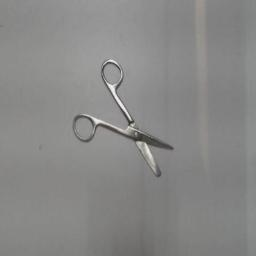Dressing Scissors: (68, 52, 180, 188)
